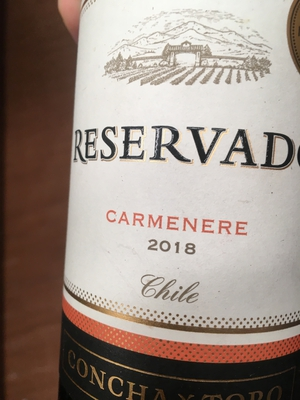reservado carmenere: (59, 1, 300, 389)
